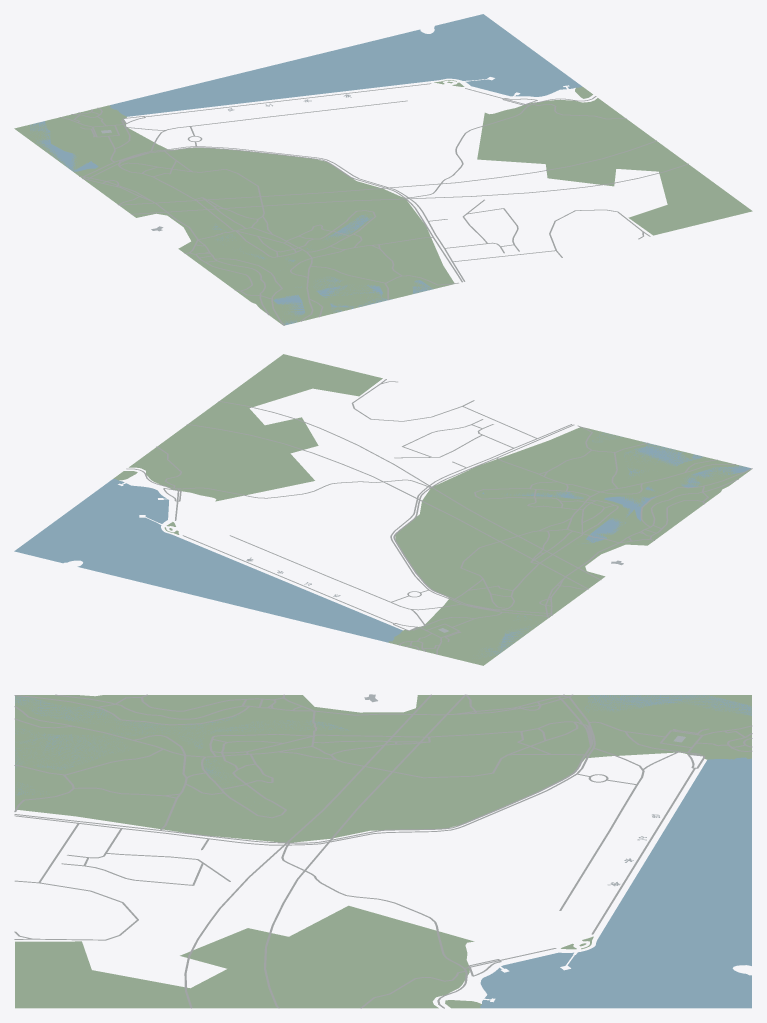
File: 12_3-known-fine.glb
3 views of the same model, one above another, from view 1: azimuth 30°, elevation 25°; view 2: azimuth 150°, elevation 25°; view 3: azimuth 270°, elevation 25° (orthographic). The views are drawn at different scales.
Size of the model in its own units: 1004 by 0.15 by 998.
